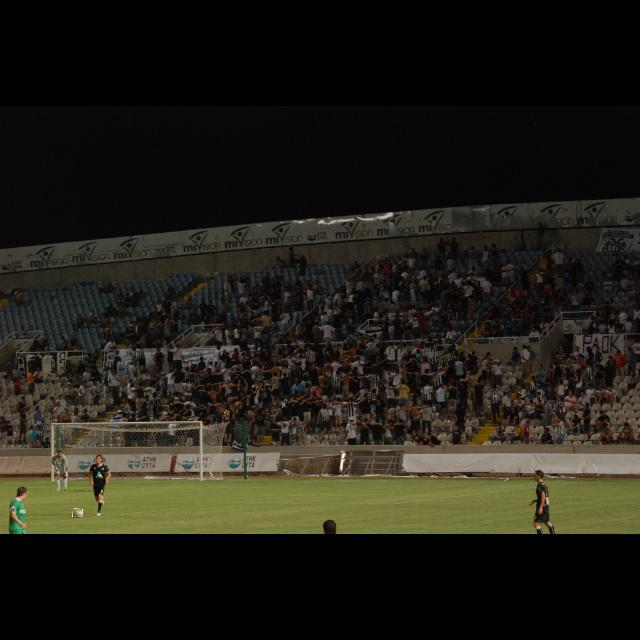Football: (73, 509, 83, 517)
